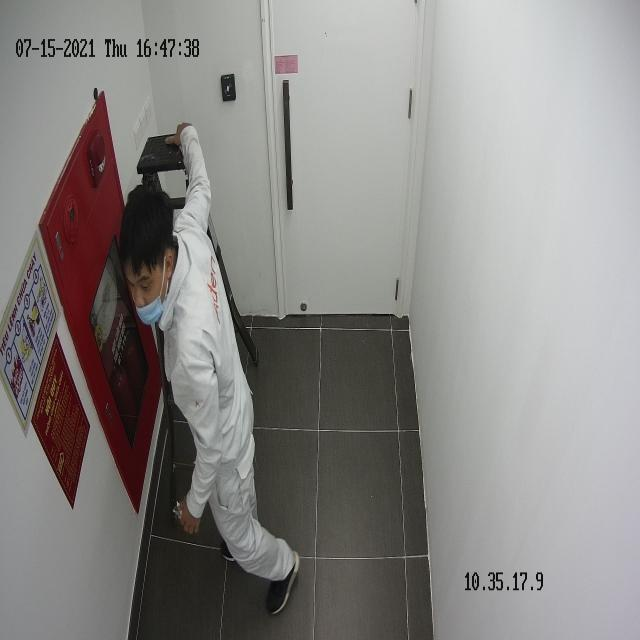hairnet: (118, 277, 172, 335)
